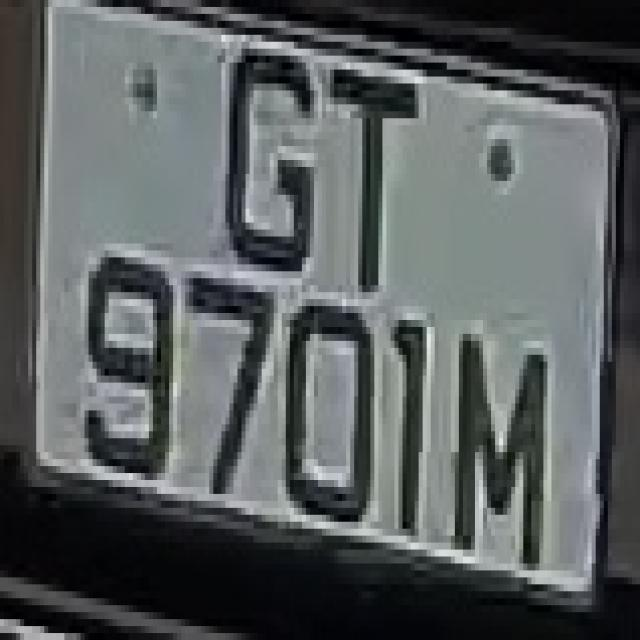0: (278, 292, 378, 543)
1: (386, 306, 435, 536)
7: (161, 257, 282, 515)
9: (65, 236, 181, 508)
G: (209, 21, 322, 285)
M: (447, 320, 563, 577)
T: (322, 49, 419, 285)
